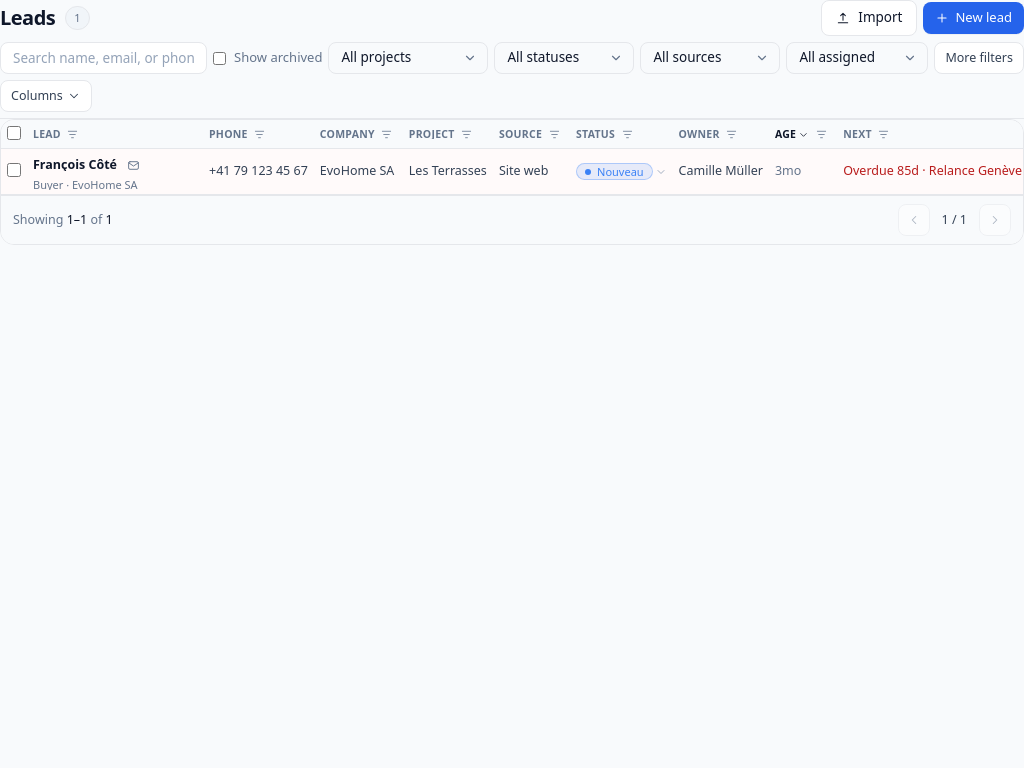
LeadsPanel table › keeps the status dropdown open with an error when a created status cannot be applied
Click the button with aria-label "Change status for François Côté" at {"x": 621, "y": 172}, box [576,163,667,180]
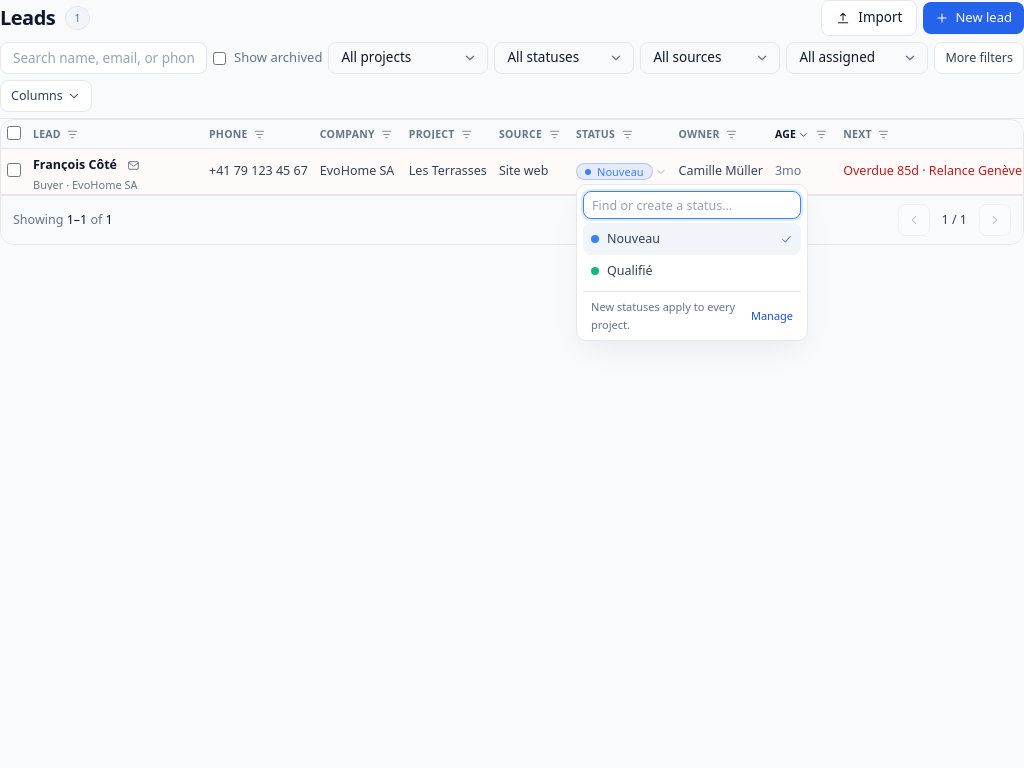
Type "Visite planifiée" into the field labelled "Find or create a status" at {"x": 692, "y": 205}, box [583,191,801,219]
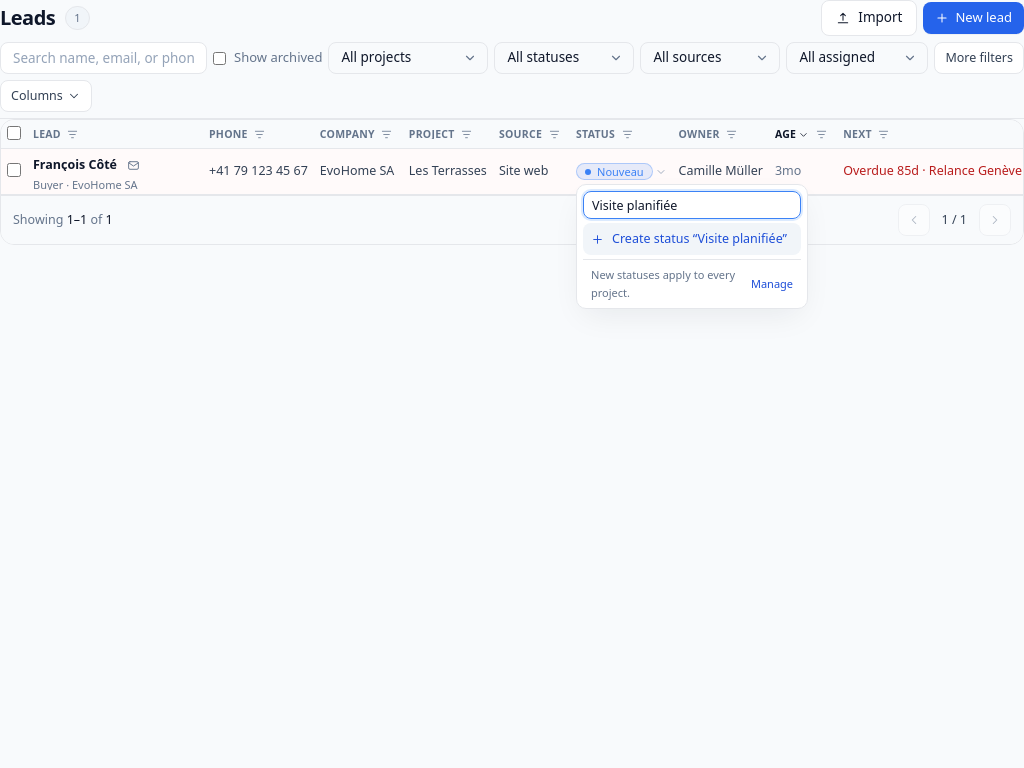
Click the button "Create status “Visite planifiée”" at {"x": 692, "y": 239}, box [583,223,801,255]
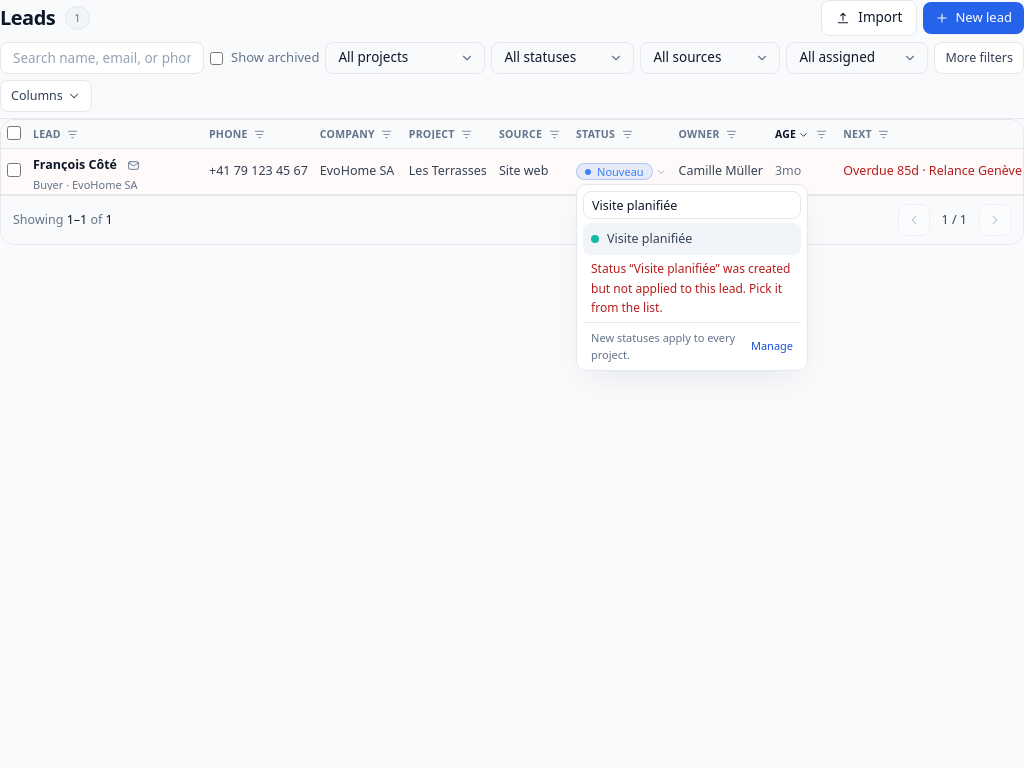
Result: the message shows "Status “Visite planifiée” was created but not applied to this lead." at [591,260,790,316]
